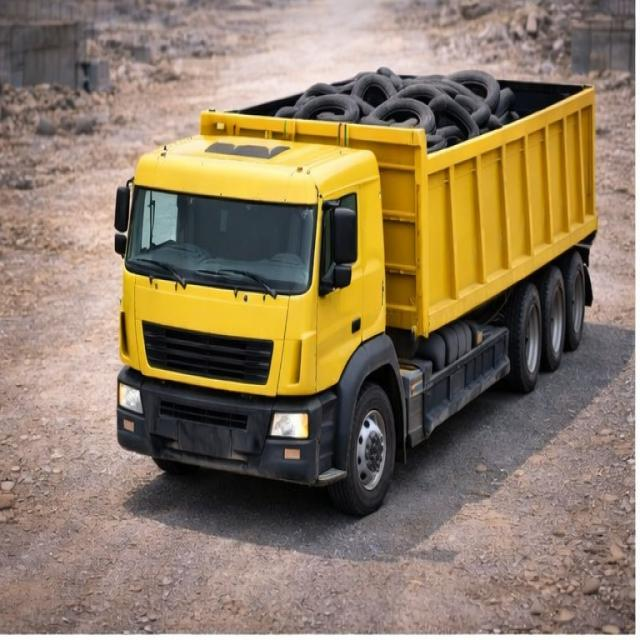trailer: (199, 65, 598, 140)
truck: (103, 58, 596, 512)
